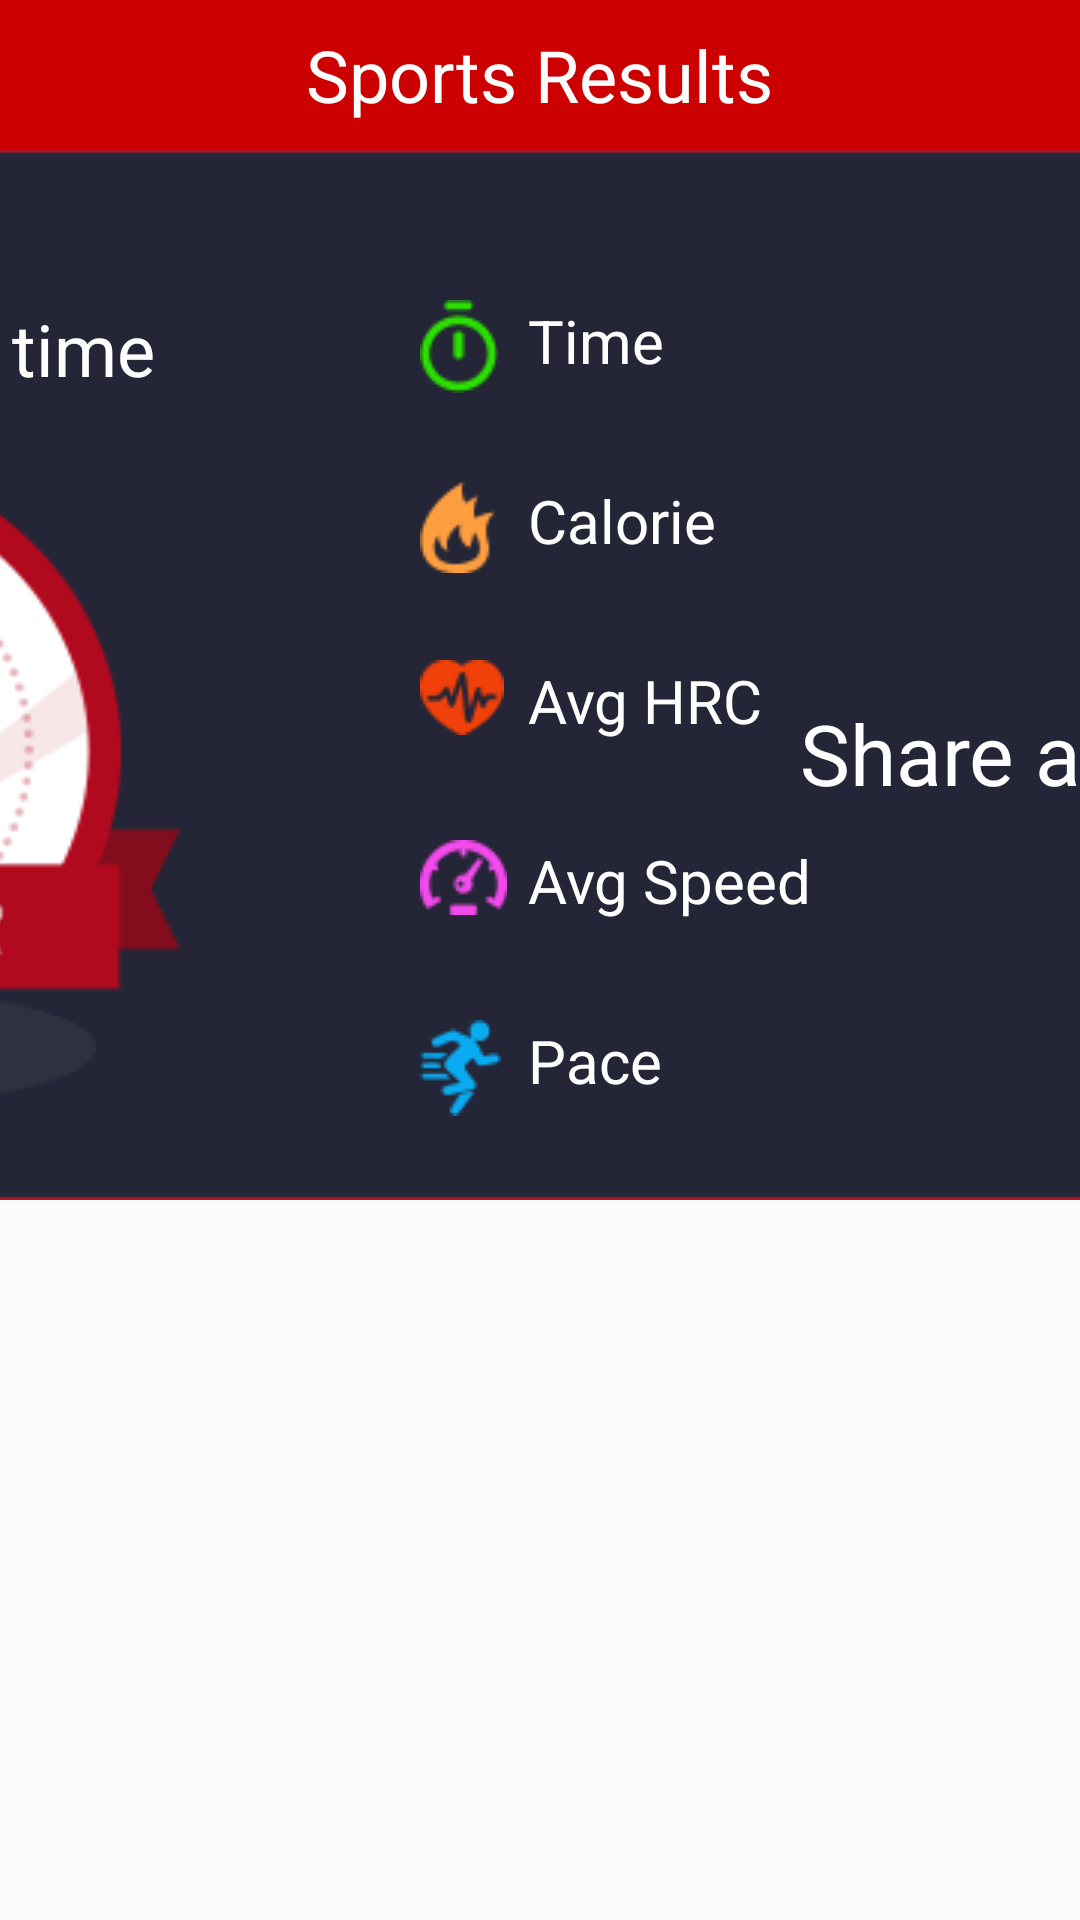

Locate icon controls on the screen. Image size 1080×1920, boxes as (x1, y1, x2, y2).
result heart: (420, 660, 504, 735)
result heat: (420, 482, 495, 573)
result minkm: (420, 1020, 501, 1116)
result speed: (420, 840, 507, 915)
